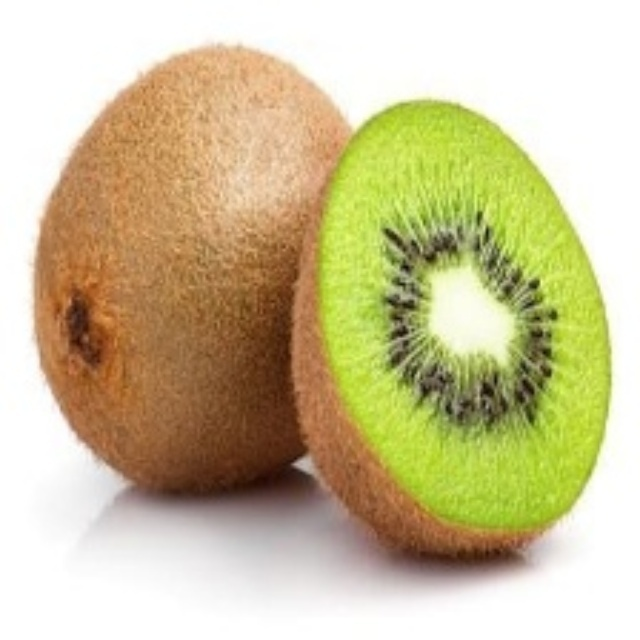kiwi: (292, 85, 610, 565), (33, 51, 357, 499)
